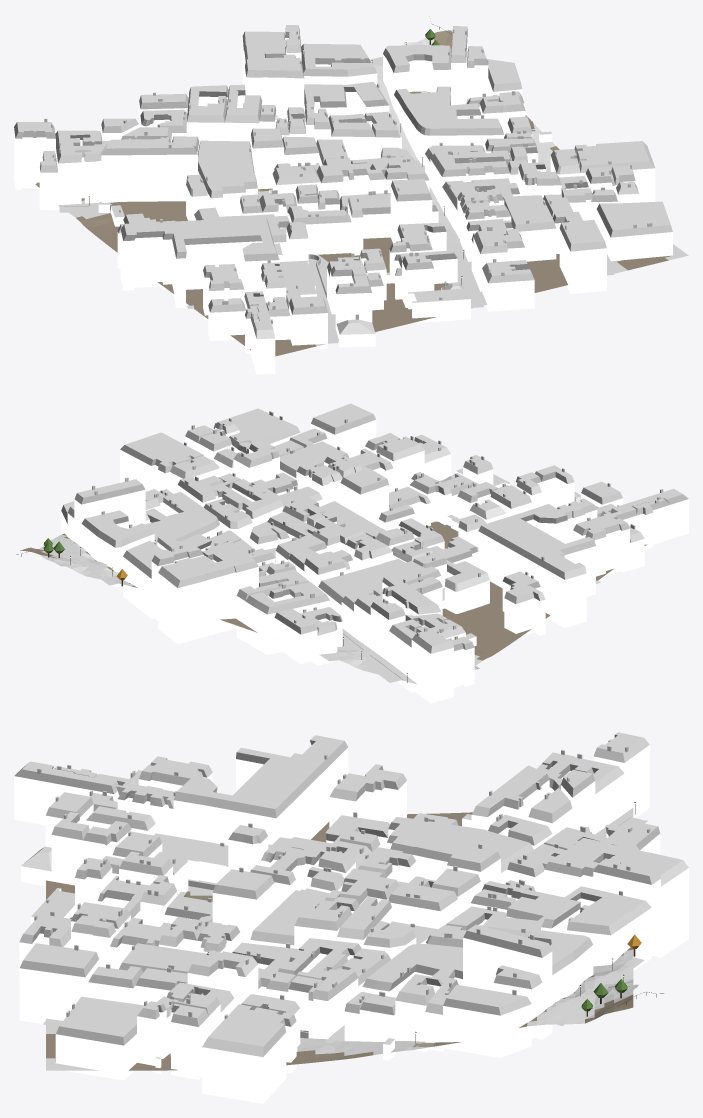
The model's file is zone_C3.glb.
3 views of the same model, one above another, from view 1: azimuth 30°, elevation 25°; view 2: azimuth 150°, elevation 25°; view 3: azimuth 270°, elevation 25° (orthographic). The views are drawn at different scales.
Visible parts, largest first — view 1: zone_C3_batiments, zone_C3_terrain, zone_C3_sol_NOCOL; view 2: zone_C3_batiments, zone_C3_terrain, zone_C3_sol_NOCOL; view 3: zone_C3_batiments, zone_C3_terrain, zone_C3_sol_NOCOL, zone_C3_decor_NOCOL.
Part boxes in pixels (<box>): zone_C3_batiments: <box>14,25,672,374</box>; zone_C3_terrain: <box>35,30,688,356</box>; zone_C3_sol_NOCOL: <box>59,41,613,343</box>; zone_C3_batiments: <box>61,403,688,703</box>; zone_C3_terrain: <box>20,479,646,684</box>; zone_C3_sol_NOCOL: <box>44,539,600,682</box>; zone_C3_batiments: <box>14,732,688,1103</box>; zone_C3_terrain: <box>46,808,633,1070</box>; zone_C3_sol_NOCOL: <box>43,816,647,1047</box>; zone_C3_decor_NOCOL: <box>415,802,663,1042</box>.
Size of the model in its own units: 222 by 40.7 by 210.
